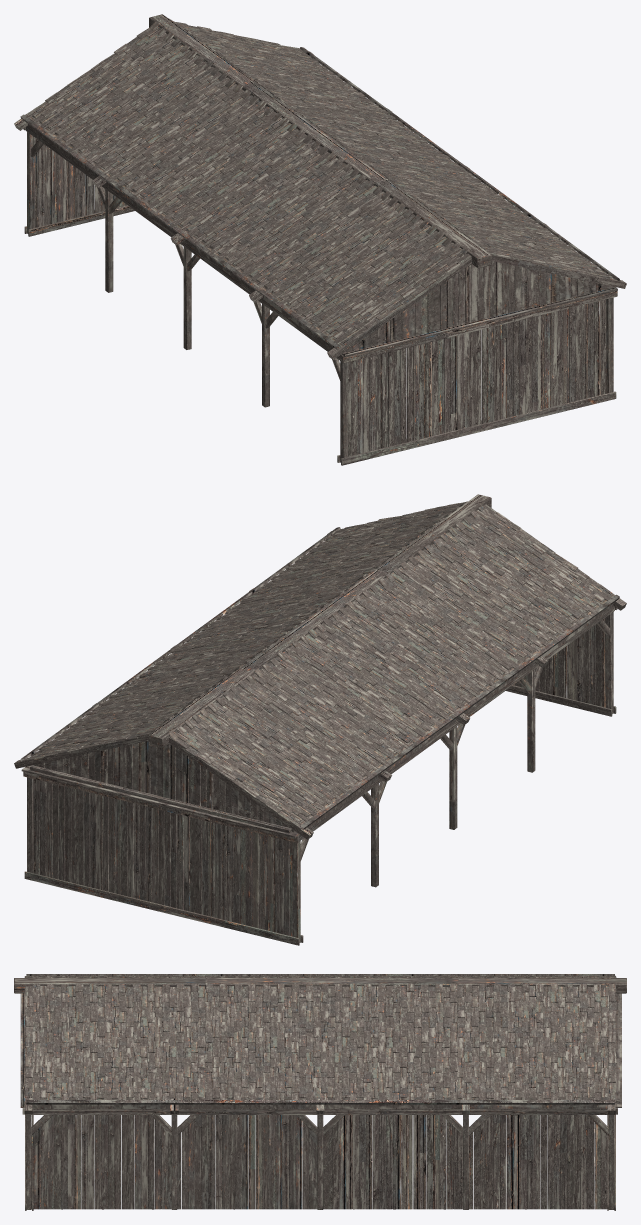
File: shed1.glb
3 views of the same model, one above another, from view 1: azimuth 30°, elevation 25°; view 2: azimuth 150°, elevation 25°; view 3: azimuth 270°, elevation 25° (orthographic). The views are drawn at different scales.
Parts seen in each view (by area): view 1: House_Farm_wood; view 2: House_Farm_wood; view 3: House_Farm_wood.
Boxes of the visible parts, x1,y1,x2,y2 form: House_Farm_wood: (14,14,626,465); House_Farm_wood: (14,494,626,945); House_Farm_wood: (14,974,626,1210).
Size of the model in its own units: 10.9 by 6.38 by 21.03.
Materials: 1 (1 with a texture image).
